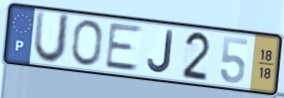2: (181, 30, 213, 83)
5: (219, 35, 250, 85)
E: (103, 22, 145, 74)
J: (146, 29, 176, 76)
O: (71, 18, 104, 69)
U: (31, 10, 73, 67)
